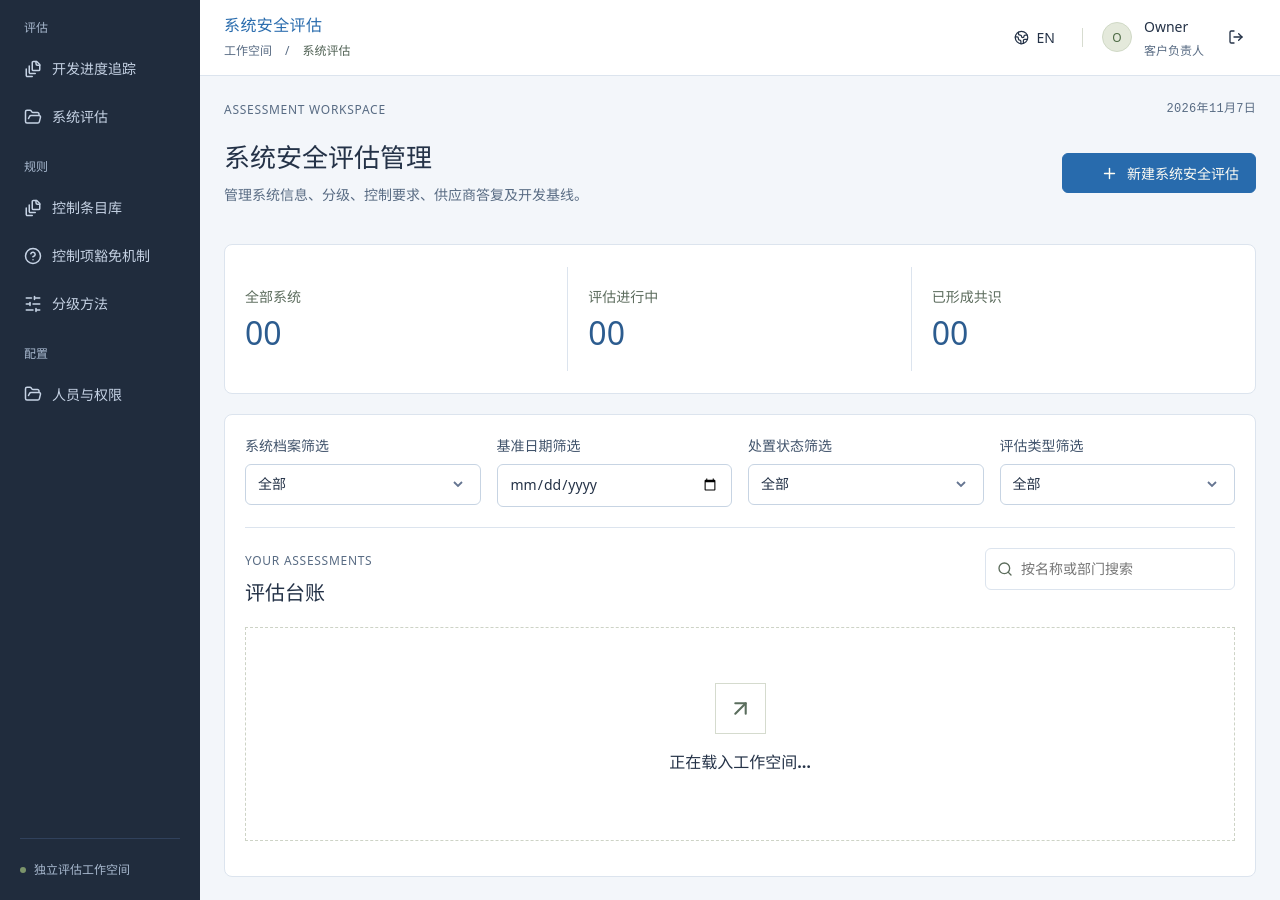
returns to login and removes business data from the cache on logout
Click the button named "退出登录".
click(1236, 38)  # box [1216,18,1256,58]
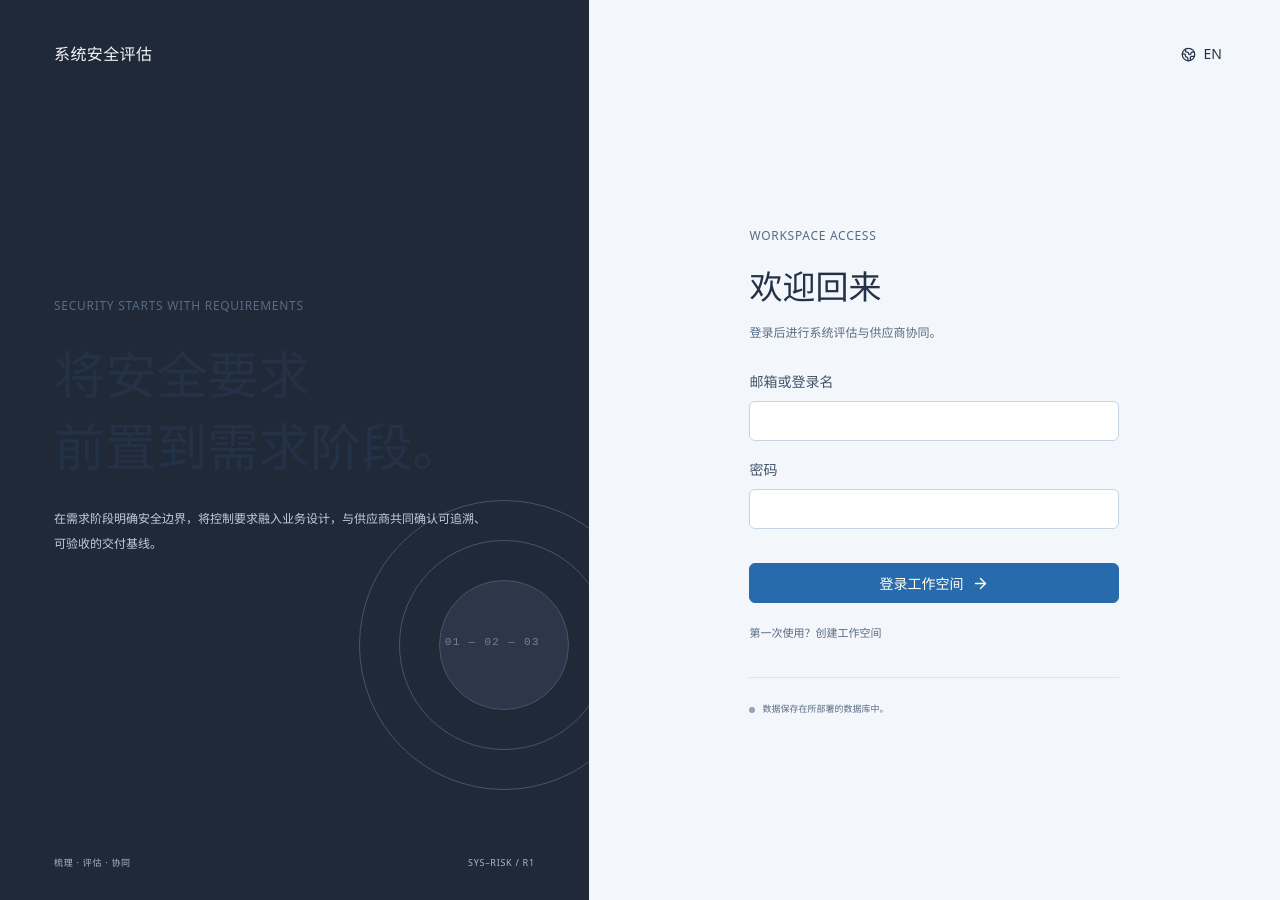
Expected: the button "登录工作空间" is shown, [749,563,1119,603]
